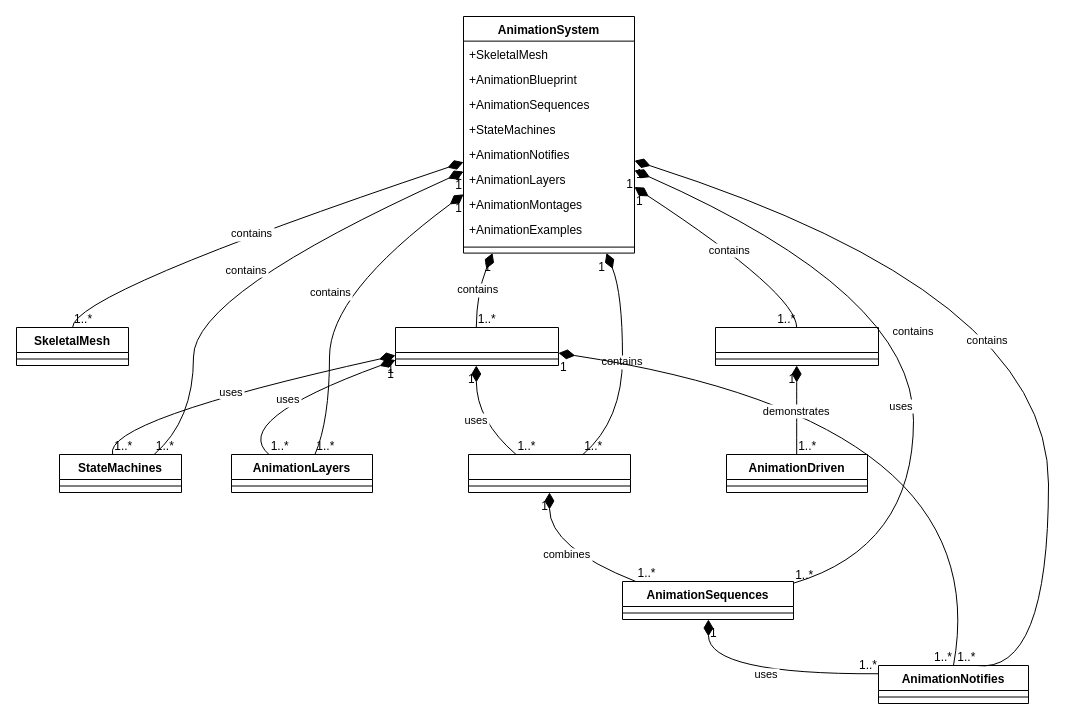
Some shapes in this 1065 by 720 pixel diagram are drawn without their labels. The centre of each missing label's shape, as x and y in pixels:
AnimationBlueprint: pixel 476 346
AnimationExamples: pixel 796 346
AnimationMontages: pixel 549 473
